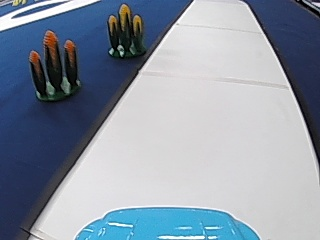corn: (30, 30, 81, 102), (105, 2, 147, 59)
